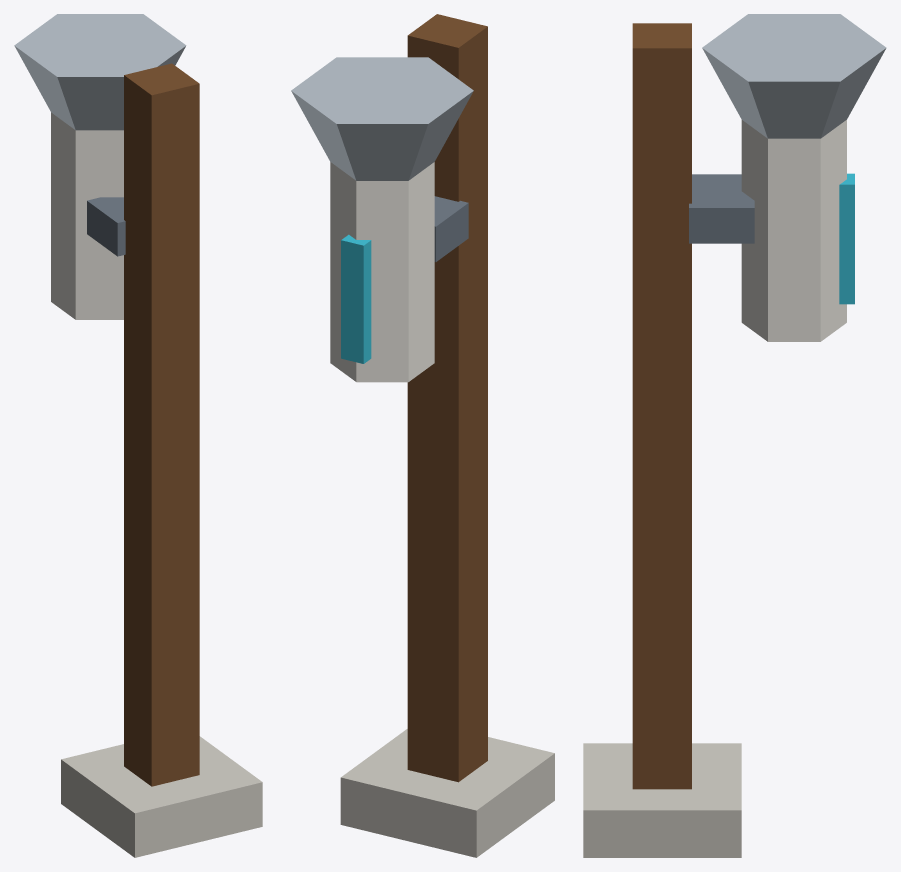
Rendered from pluviometro.glb.
3 renders of one model, left to right at view 1: azimuth 30°, elevation 25°; view 2: azimuth 150°, elevation 25°; view 3: azimuth 270°, elevation 25°, orthographic. The views are drawn at different scales.
Visible parts, largest first — view 1: corpo; view 2: corpo; view 3: corpo.
Boxes of the visible parts, x1,y1,x2,y2 form: corpo: (14,14,262,857); corpo: (291,14,554,857); corpo: (583,14,886,857).
Size of the model in its own units: 0.1212 by 0.66 by 0.23.
